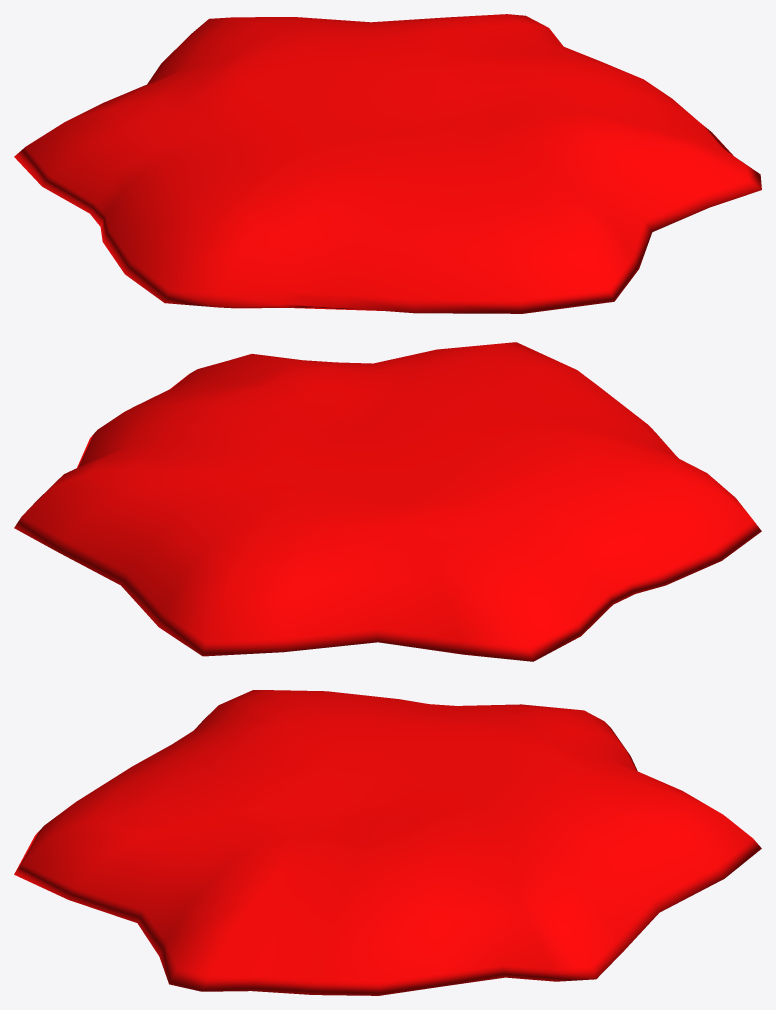
File: hotdogsplat.fbx
3 renders of one model, top to bottom at view 1: azimuth 30°, elevation 25°; view 2: azimuth 150°, elevation 25°; view 3: azimuth 270°, elevation 25°, orthographic. The views are drawn at different scales.
Visible parts, largest first — view 1: pCube1; view 2: pCube1; view 3: pCube1.
Part boxes in pixels (x1,y1,x2,y2): pCube1: [14, 14, 761, 313]; pCube1: [14, 342, 761, 661]; pCube1: [14, 690, 761, 995].
Size of the model in its own units: 15.8 by 1.91 by 17.44.
